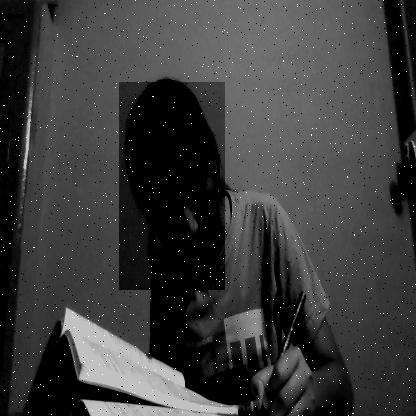Distracted: (119, 82, 225, 290)
